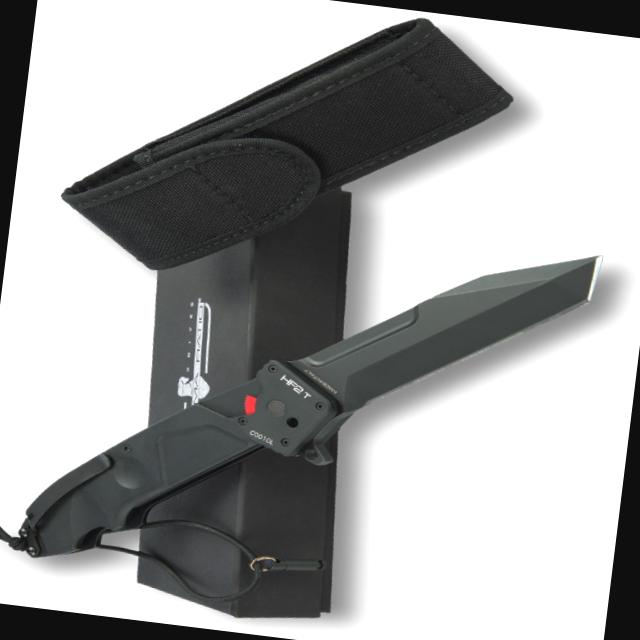knife: (269, 212, 616, 452)
